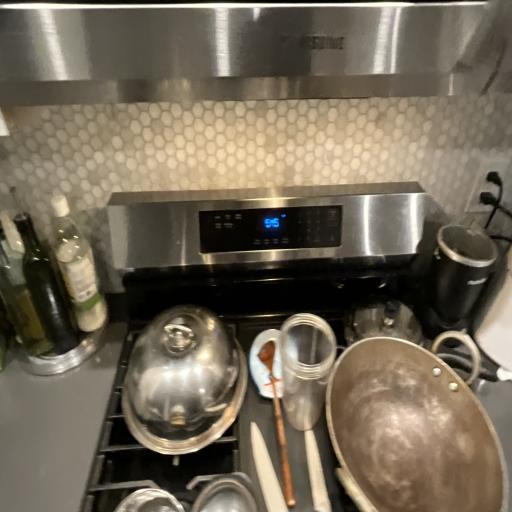Pan: (305, 341, 512, 512)
Stove: (67, 182, 512, 512)
knife: (289, 422, 348, 512), (250, 404, 294, 512)
